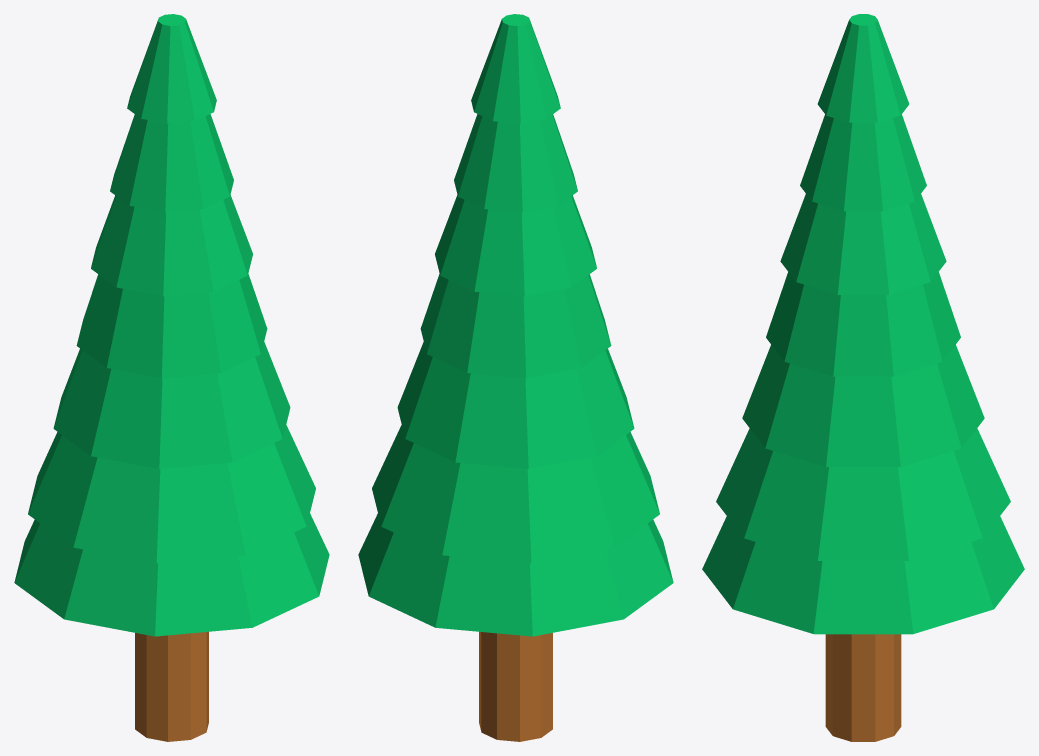
Rendered from Tree1.fbx.
The picture shows the model from 3 angles, left to right: view 1: azimuth 30°, elevation 25°; view 2: azimuth 150°, elevation 25°; view 3: azimuth 270°, elevation 25°; orthographic projection.
Parts seen in each view (by area): view 1: Tree 1; view 2: Tree 1; view 3: Tree 1.
Part boxes in pixels (x1,y1,x2,y2): Tree 1: [14, 14, 329, 741]; Tree 1: [358, 14, 673, 741]; Tree 1: [702, 14, 1024, 741].
Size of the model in its own units: 214 by 544 by 225.
